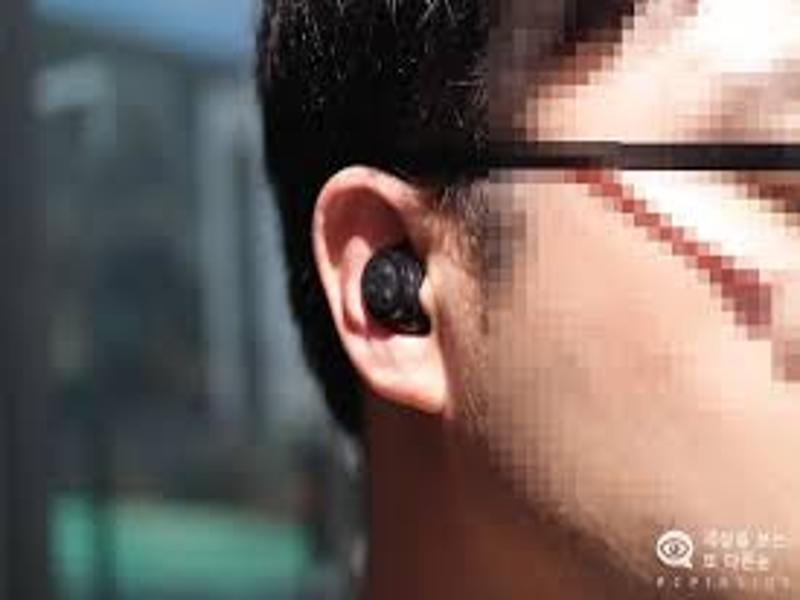headphone: (360, 242, 432, 339)
